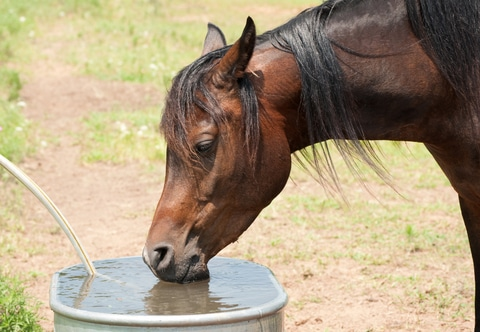Horse: (131, 28, 480, 304)
